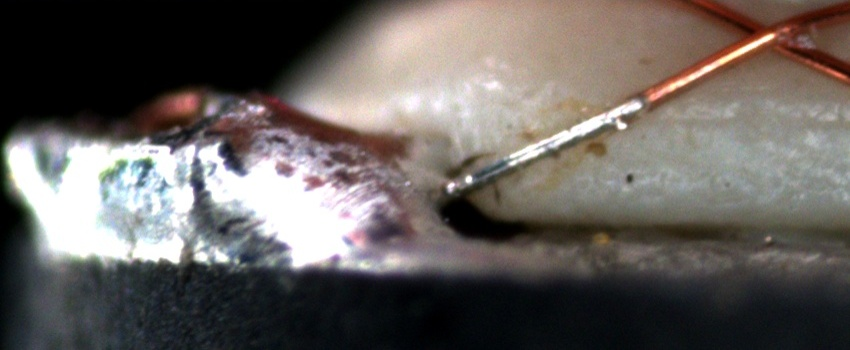CL: (717, 6, 815, 64)
DL: (641, 88, 850, 152)
TS: (443, 92, 647, 198)
